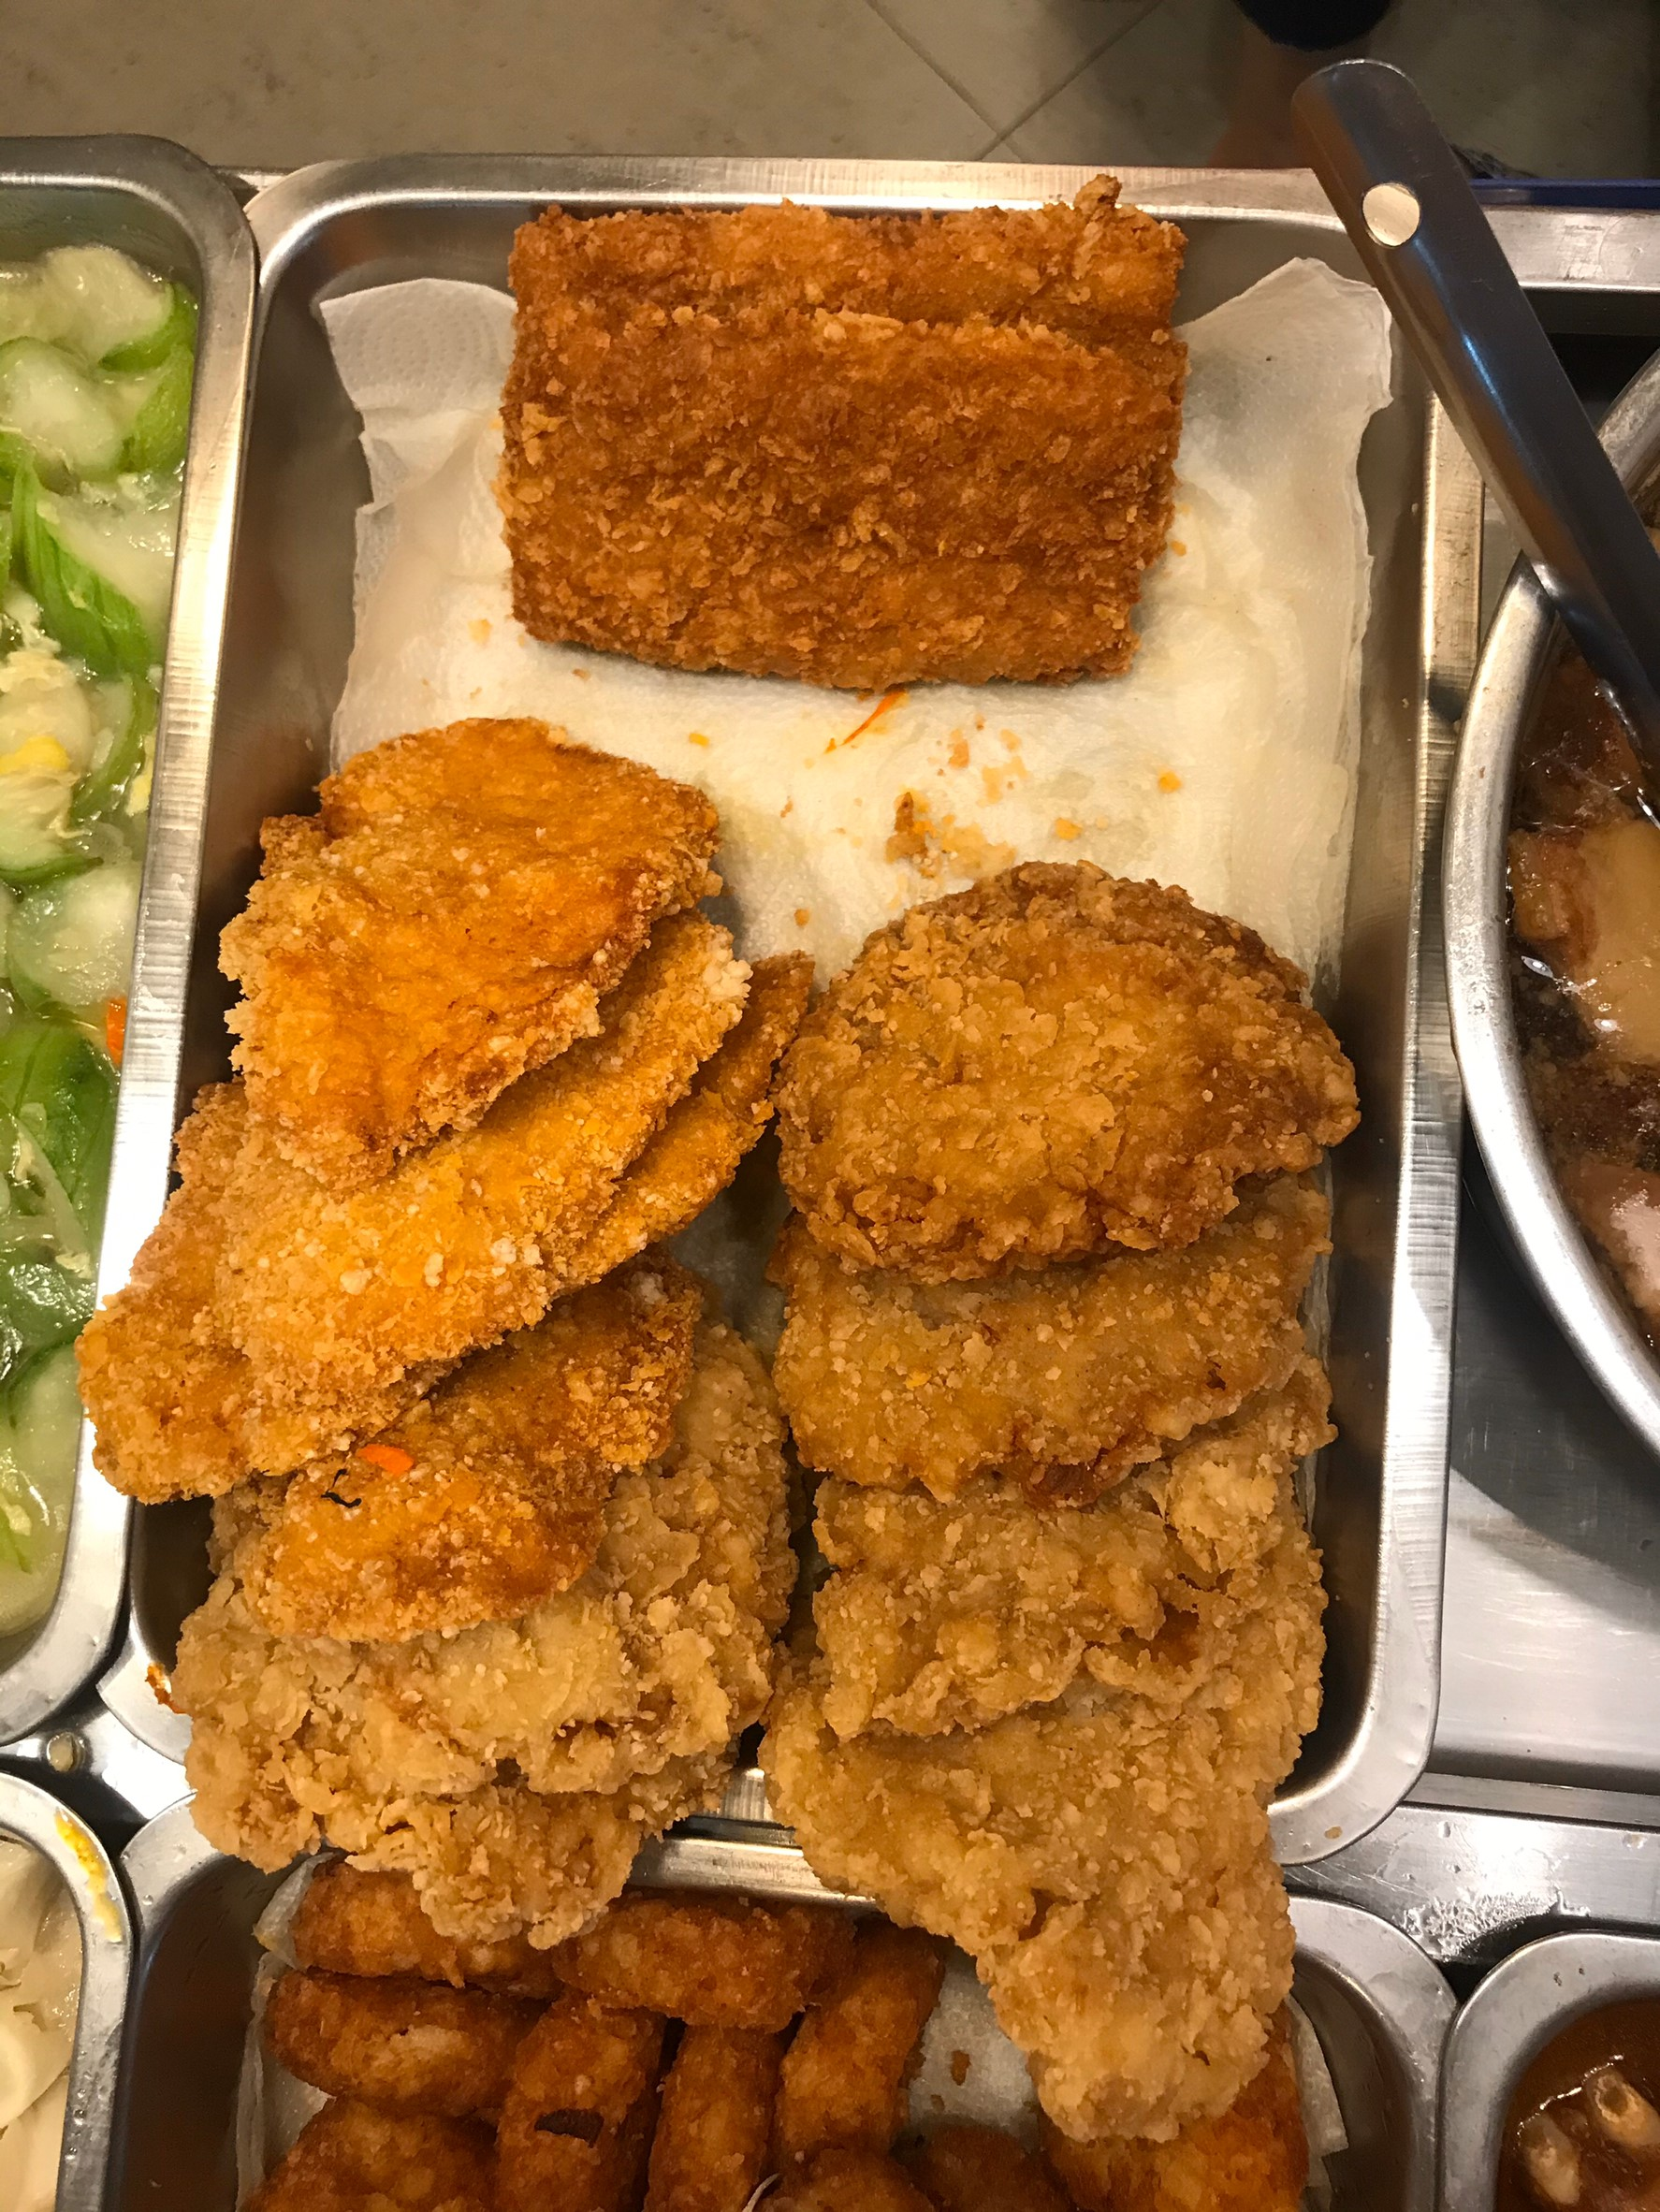fried_chicken: (192, 800, 1292, 1858)
triangle_hash_brown: (235, 1865, 1316, 2212)
